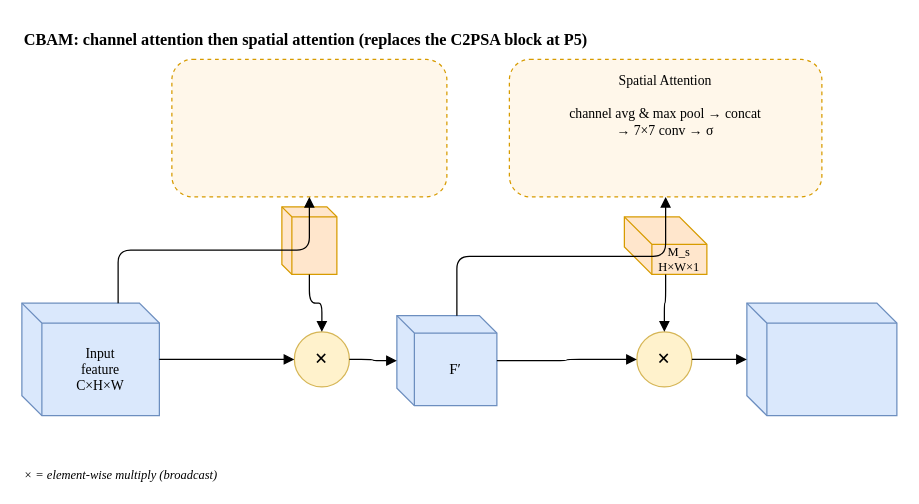
Some shapes in this 919 by 504 pixel diagram are drawn without their labels. The shapes that lost their labels are listed below. From the top down, each one's box as (x1, y1, x2, y2) in pixels, then its label:
(171, 58, 447, 197): Channel Attention global avg-pool & max-pool → shared MLP → sum → σ
(281, 206, 337, 274): M_c 1×1×C
(746, 302, 897, 416): Refined feature C×H×W
